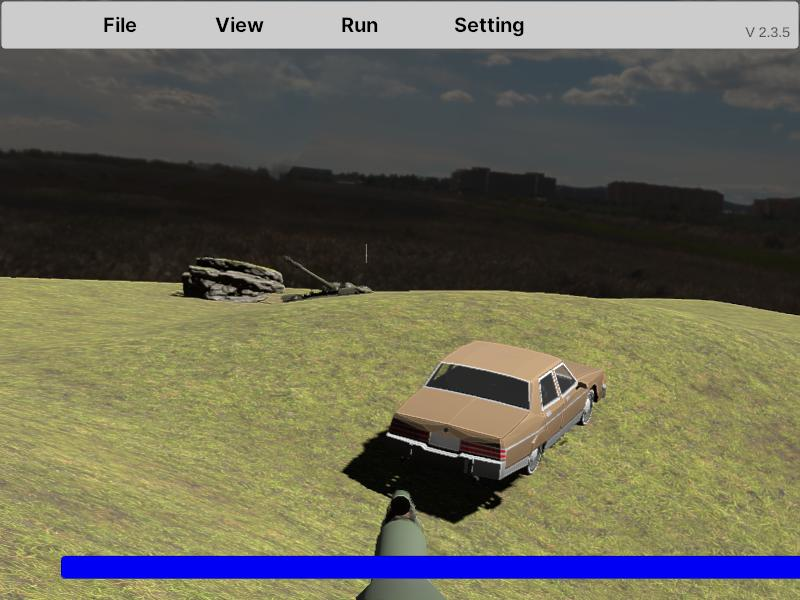car: (385, 342, 605, 486)
